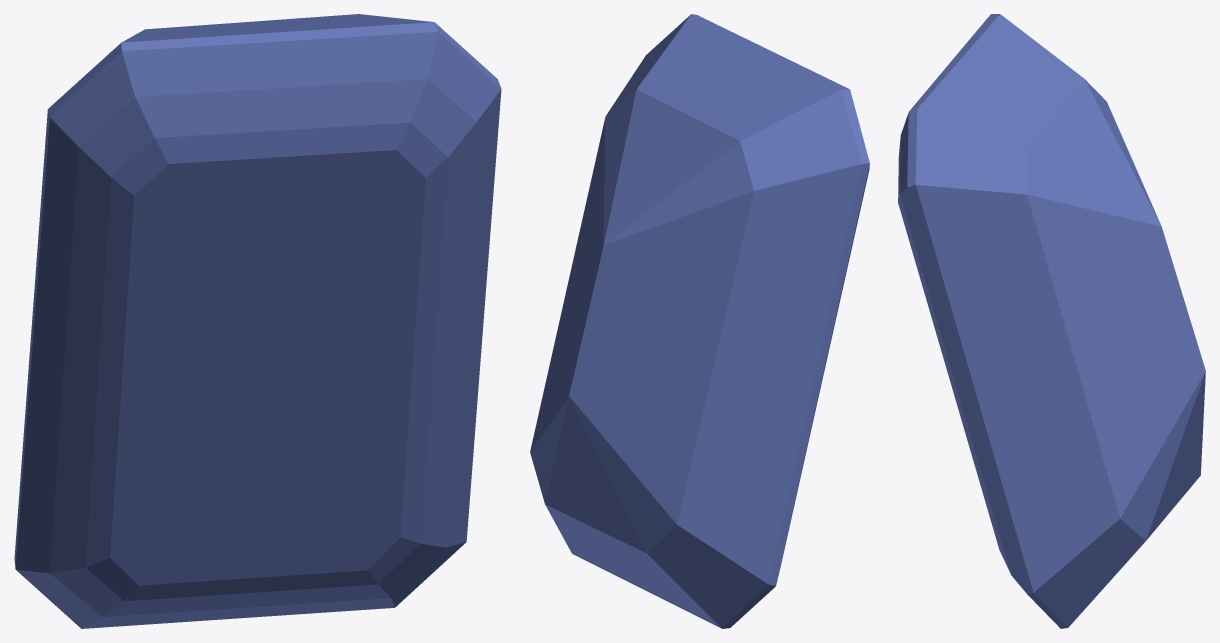
File: BL2_8shapes_Emerald_Classic_Stone.001 2.glb
3 views of the same model, side by side, from view 1: azimuth 30°, elevation 25°; view 2: azimuth 150°, elevation 25°; view 3: azimuth 270°, elevation 25° (orthographic). The views are drawn at different scales.
Visible parts, largest first — view 1: BL2_8shapes_Emerald_Classic_Stone.001; view 2: BL2_8shapes_Emerald_Classic_Stone.001; view 3: BL2_8shapes_Emerald_Classic_Stone.001.
Boxes of the visible parts, x1,y1,x2,y2 form: BL2_8shapes_Emerald_Classic_Stone.001: [14, 14, 501, 628]; BL2_8shapes_Emerald_Classic_Stone.001: [530, 14, 869, 628]; BL2_8shapes_Emerald_Classic_Stone.001: [898, 14, 1205, 628].
Size of the model in its own units: 0.3415 by 0.5187 by 0.289.
